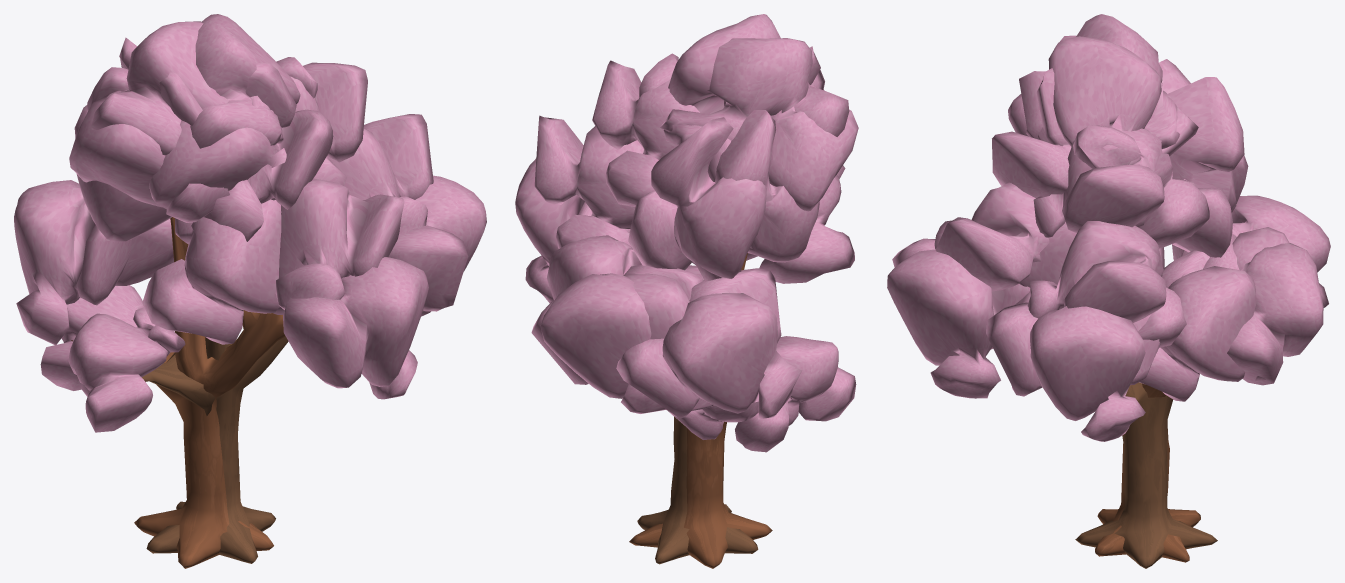
File: Tree12.fbx
The picture shows the model from 3 angles, left to right: view 1: azimuth 30°, elevation 25°; view 2: azimuth 150°, elevation 25°; view 3: azimuth 270°, elevation 25°; orthographic projection. The views are drawn at different scales.
Visible parts, largest first — view 1: tree12; view 2: tree12; view 3: tree12.
Boxes of the visible parts, <box> form: tree12: <box>14,14,486,568</box>; tree12: <box>515,14,858,568</box>; tree12: <box>887,14,1330,568</box>.
Size of the model in its own units: 8.17 by 11.61 by 9.44.
